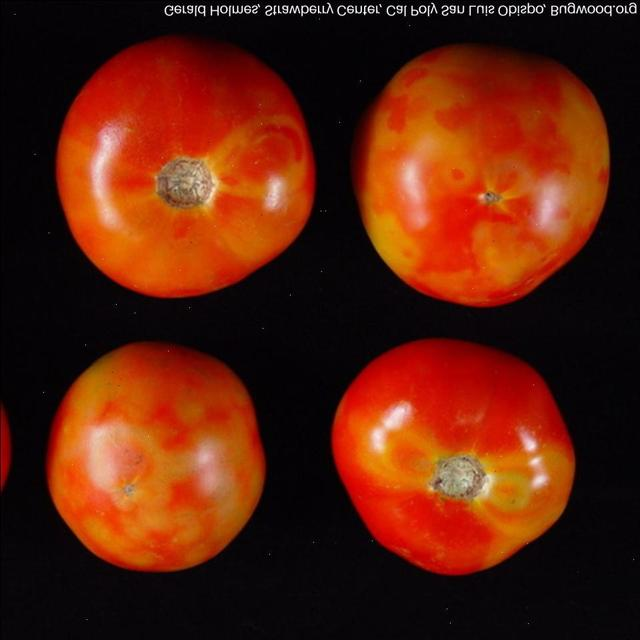Spotted wilt Virus Fruit: (104, 111, 320, 305)
